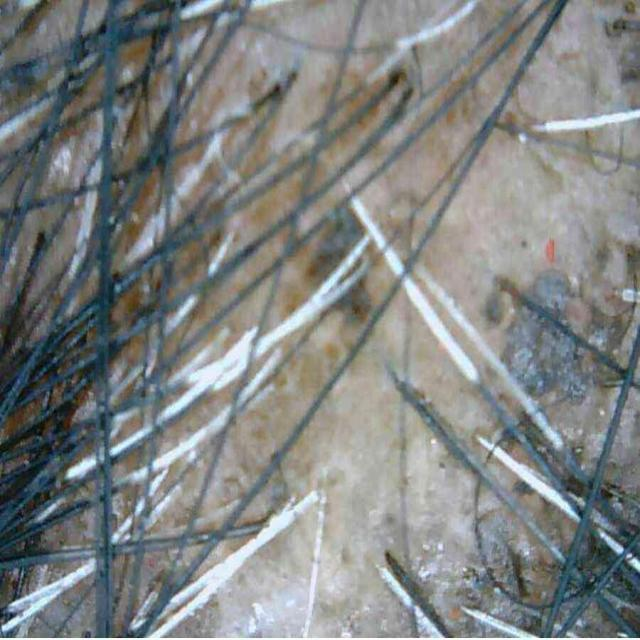s: (499, 267, 594, 406), (454, 505, 535, 634), (575, 239, 640, 360), (302, 207, 366, 293), (326, 276, 374, 328), (481, 287, 509, 326)
